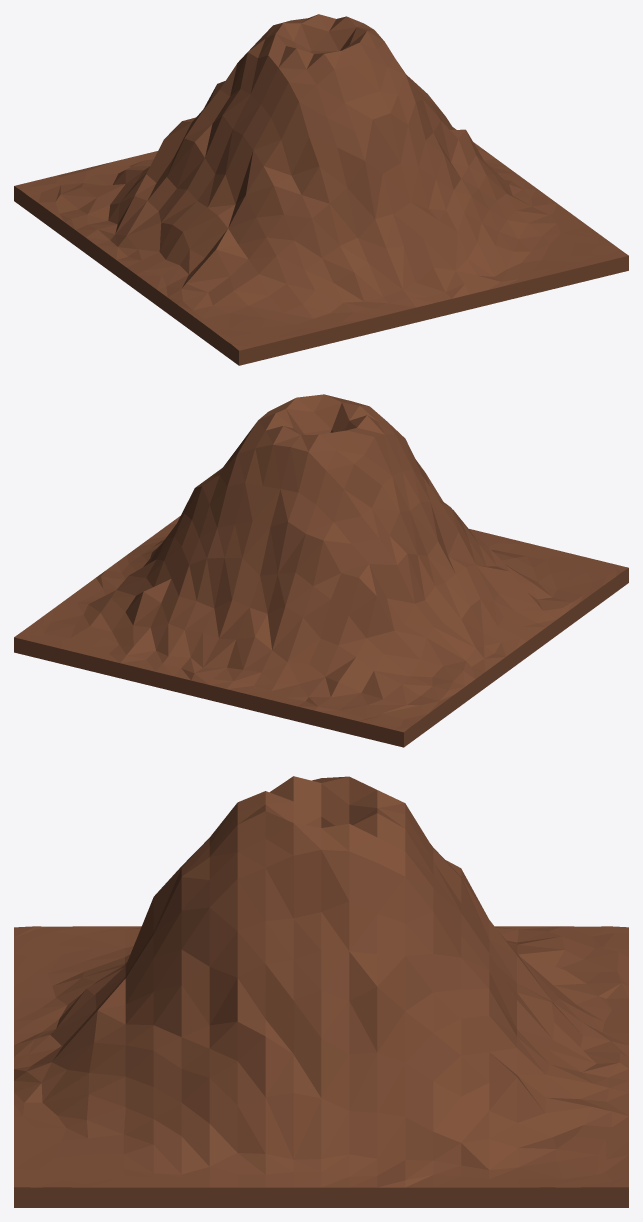
The model's file is ant hill.fbx.
3 views of the same model, one above another, from view 1: azimuth 30°, elevation 25°; view 2: azimuth 150°, elevation 25°; view 3: azimuth 270°, elevation 25° (orthographic). The views are drawn at different scales.
Visible parts, largest first — view 1: ant hill; view 2: ant hill; view 3: ant hill.
Boxes of the visible parts, x1=… form: ant hill: x1=14, y1=14, x2=628, y2=365; ant hill: x1=14, y1=394, x2=628, y2=747; ant hill: x1=14, y1=776, x2=628, y2=1207.
Size of the model in its own units: 400 by 200 by 400.
